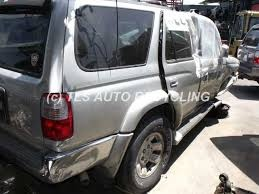Dent: (44, 147, 99, 182)
Scratch: (11, 103, 35, 133)
